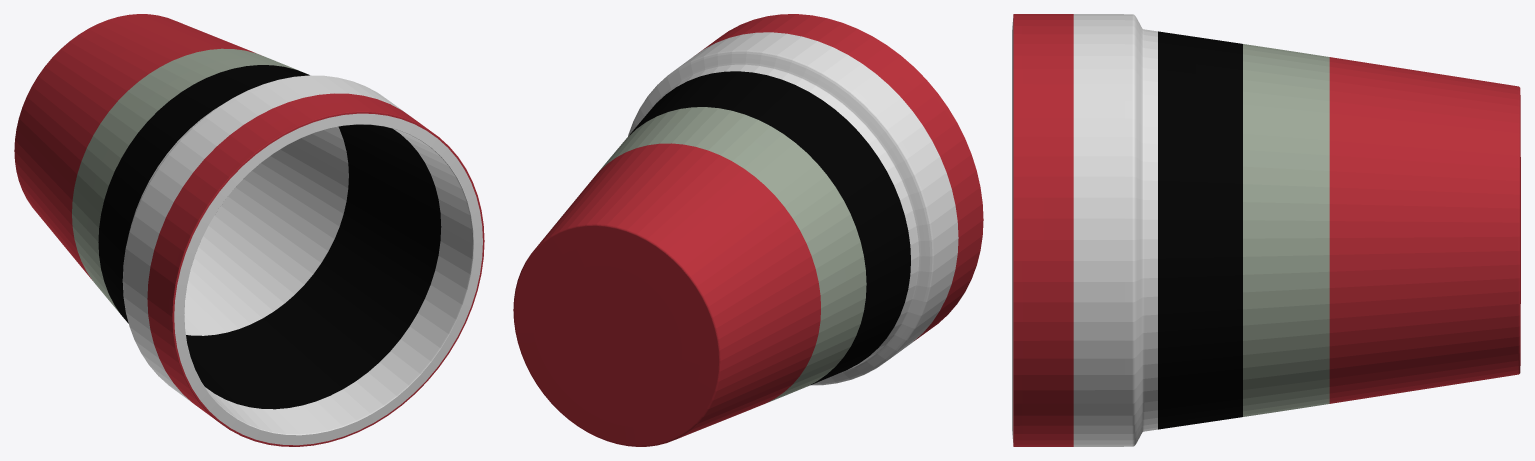
Rendered from pot.obj.
3 renders of one model, left to right at view 1: azimuth 30°, elevation 25°; view 2: azimuth 150°, elevation 25°; view 3: azimuth 270°, elevation 25°, orthographic. The views are drawn at different scales.
Parts seen in each view (by area): view 1: decorplant008; view 2: decorplant008; view 3: decorplant008.
Part boxes in pixels (box(x1,y1,x2,y2)): decorplant008: box(14, 14, 484, 446); decorplant008: box(513, 14, 983, 446); decorplant008: box(1012, 14, 1520, 446).
Size of the model in its own units: 129 by 129 by 151.
Materials: 4 (4 with a texture image).
